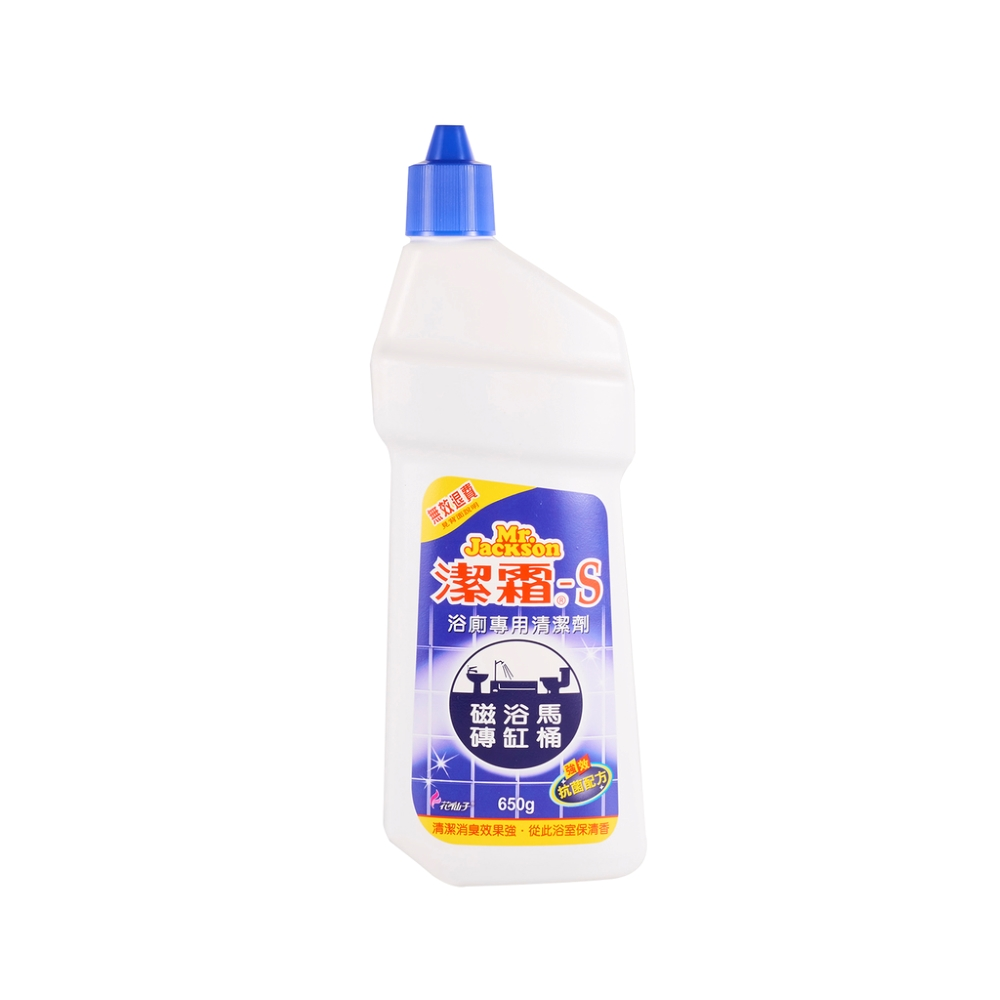cleaner: (328, 114, 662, 886)
